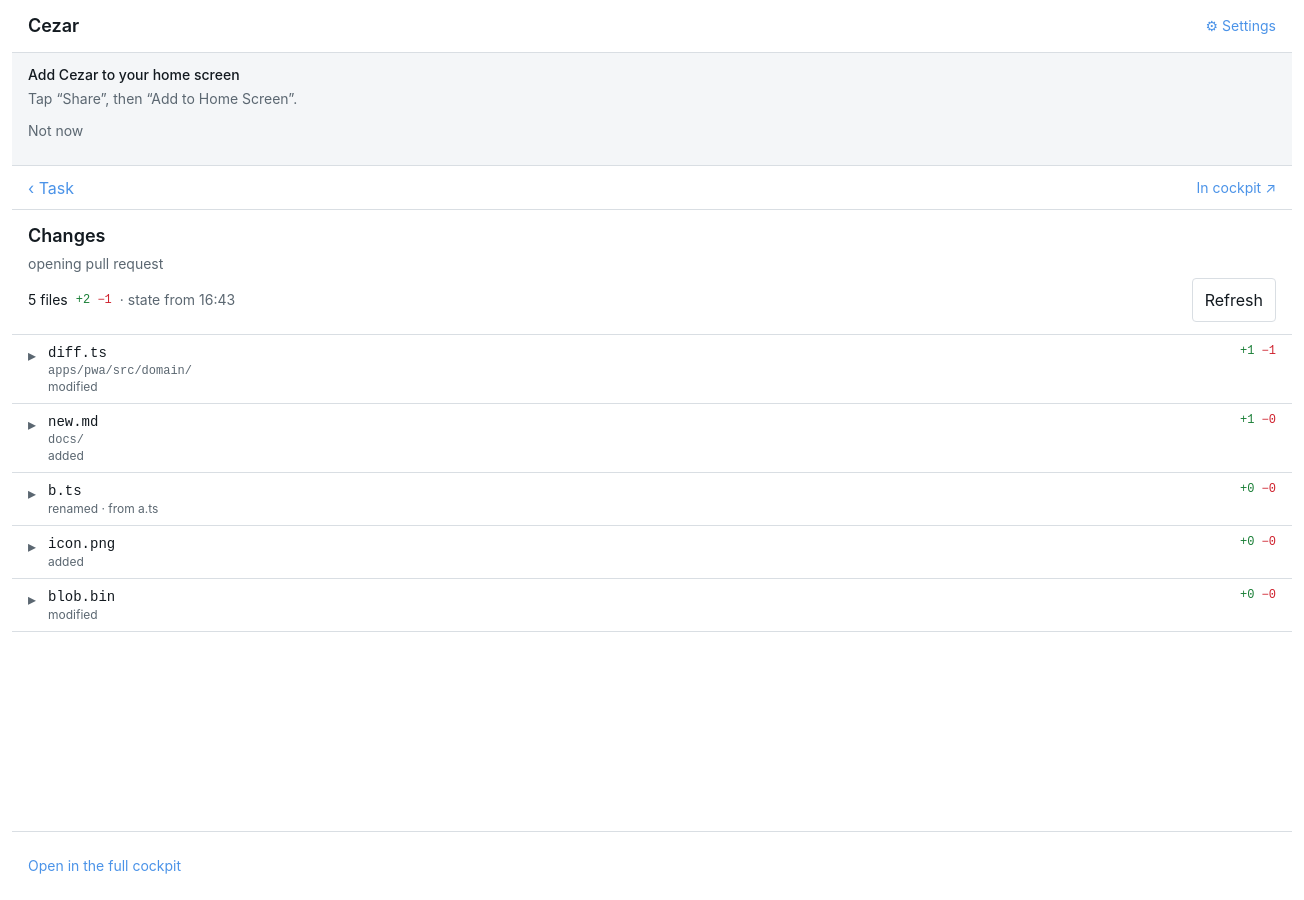
Test: DiffScreen — file by file › b.ts says why there is no patch to read
Click the button "▸ b.ts renamed · from a.ts +0 −0".
click(65, 491)  # box [12, 473, 1292, 525]
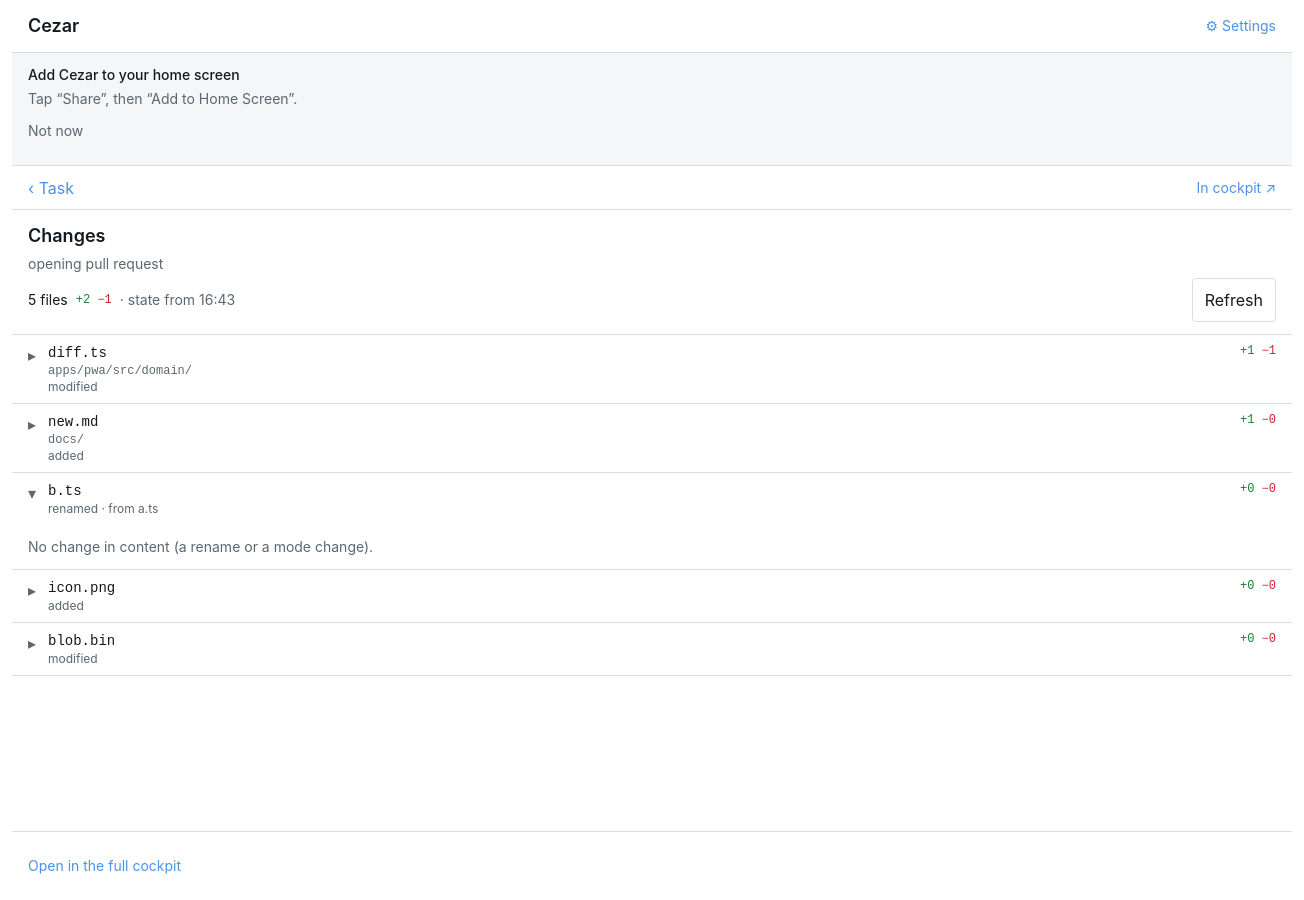
Check: the text "No change in content (a rename or a mode change)." is shown, box [28, 538, 373, 555]
